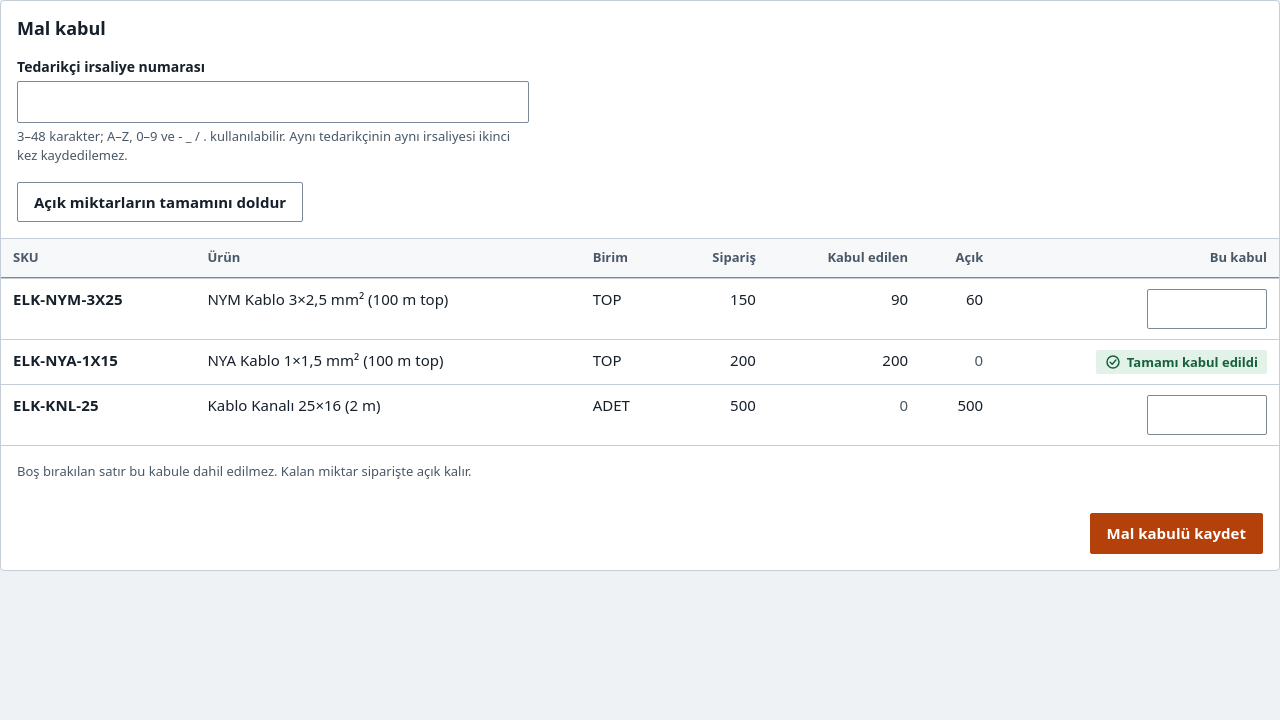
Test: mal kabul formu › referans ve en az bir miktar olmadan göndermez
Step 1. Click the button "Mal kabulü kaydet" → (1176, 534), box [1090,513,1263,554]
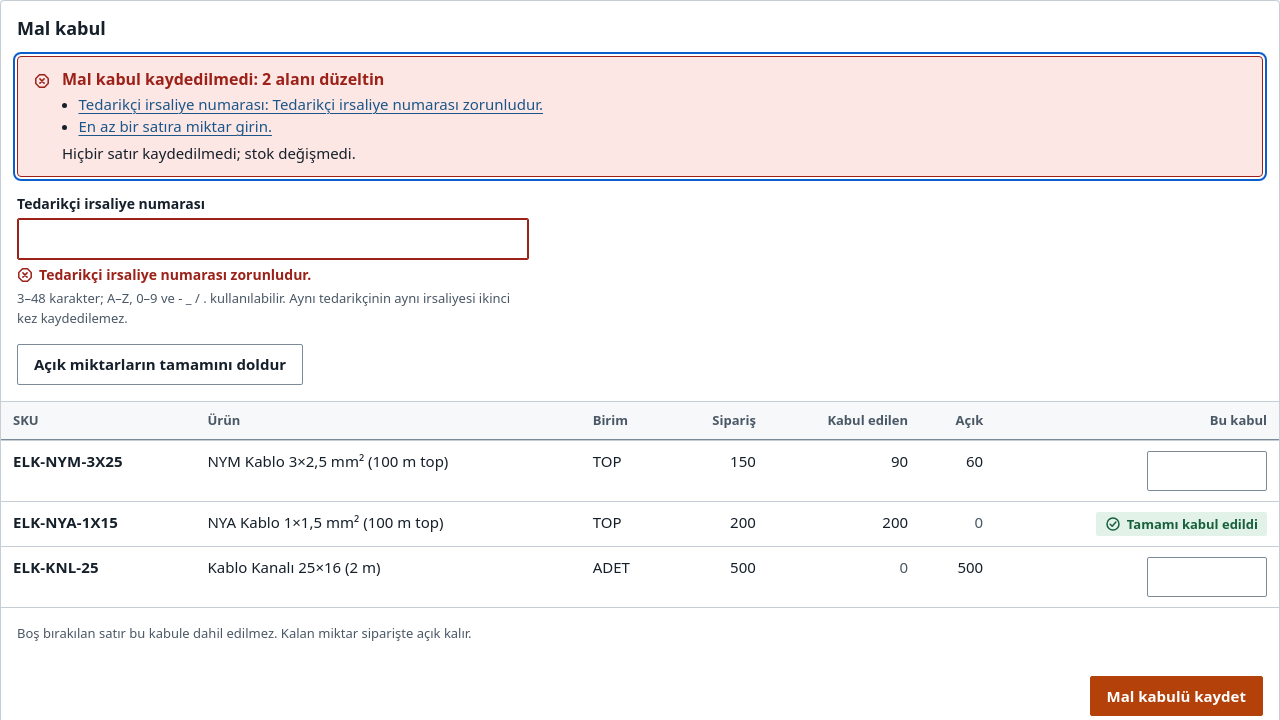
Check: the element "2 alanı düzeltin" shows "Tedarikçi irsaliye numarası zorunludur.", box [78,94,543,114]
Check: the element "2 alanı düzeltin" shows "En az bir satıra miktar girin.", box [78,116,272,136]
